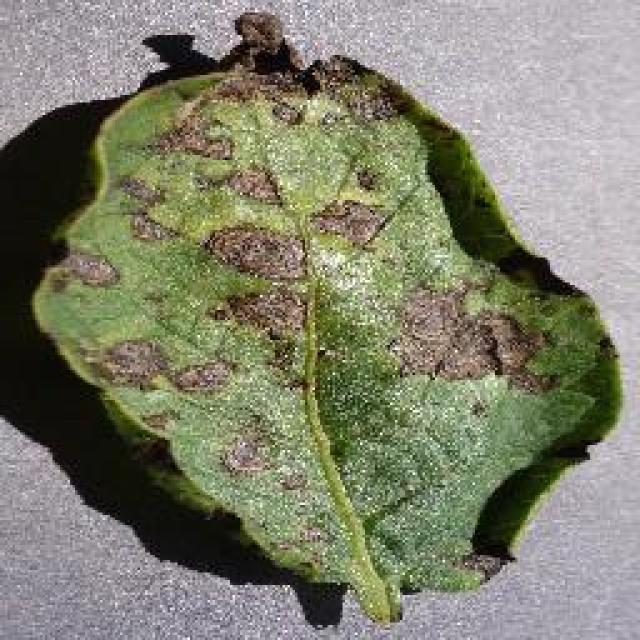early_blight: (28, 15, 628, 627)
